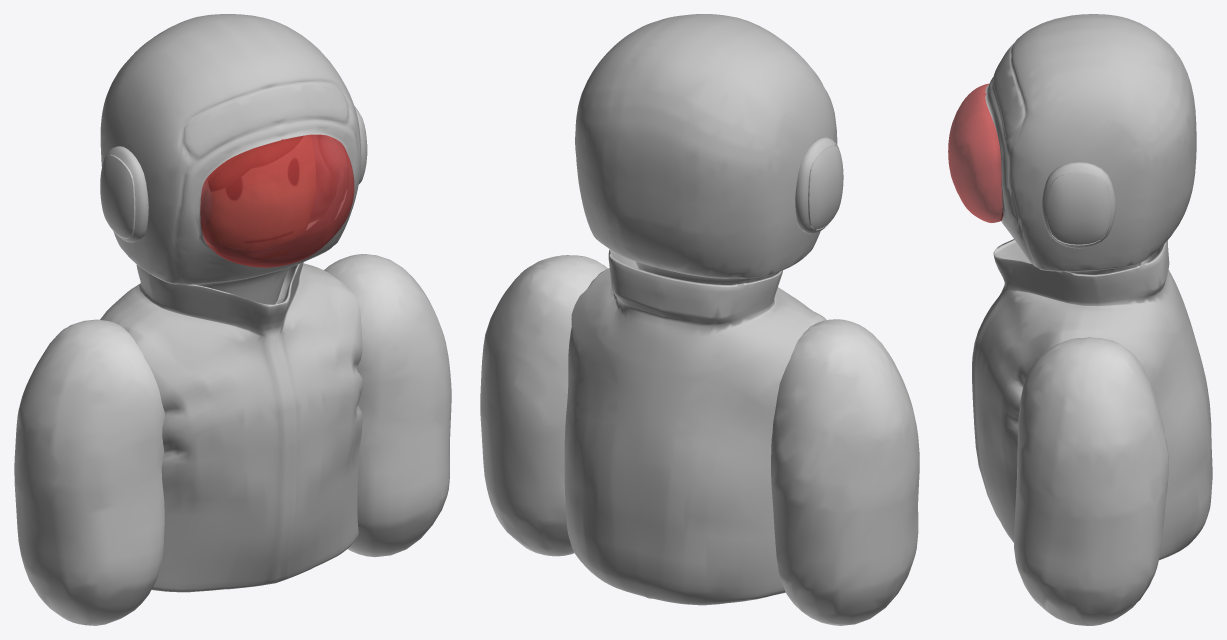
Rendered from UAF.glb.
3 renders of one model, left to right at view 1: azimuth 30°, elevation 25°; view 2: azimuth 150°, elevation 25°; view 3: azimuth 270°, elevation 25°, orthographic. The views are drawn at different scales.
Parts seen in each view (by area): view 1: Astro_body_low, Astro_Helmet_low, Astro_L_arm_low, Astro_R_arm_low, polySurface2, Astro_Face_low, Astro_L_Ear_low, Astro_Padding_low, polySurface1, Astro_Hair_low; view 2: Astro_body_low, Astro_Helmet_low, Astro_L_arm_low, Astro_R_arm_low, Astro_L_Ear_low; view 3: Astro_Helmet_low, Astro_R_arm_low, Astro_body_low, polySurface2, Astro_R_Ear_low.
Boxes of the visible parts, x1=… form: Astro_body_low: x1=100, y1=262, x2=362, y2=592; Astro_Helmet_low: x1=100, y1=14, x2=361, y2=304; Astro_L_arm_low: x1=14, y1=319, x2=164, y2=625; Astro_R_arm_low: x1=324, y1=254, x2=451, y2=557; polySurface2: x1=200, y1=134, x2=354, y2=267; Astro_Face_low: x1=206, y1=135, x2=315, y2=259; Astro_L_Ear_low: x1=100, y1=146, x2=148, y2=242; Astro_Padding_low: x1=201, y1=135, x2=347, y2=231; polySurface1: x1=202, y1=137, x2=347, y2=259; Astro_Hair_low: x1=208, y1=136, x2=302, y2=191; Astro_body_low: x1=564, y1=249, x2=826, y2=605; Astro_Helmet_low: x1=575, y1=14, x2=837, y2=284; Astro_L_arm_low: x1=771, y1=319, x2=919, y2=625; Astro_R_arm_low: x1=480, y1=255, x2=607, y2=556; Astro_L_Ear_low: x1=795, y1=137, x2=843, y2=234; Astro_Helmet_low: x1=985, y1=14, x2=1196, y2=274; Astro_R_arm_low: x1=1014, y1=337, x2=1168, y2=625; Astro_body_low: x1=972, y1=239, x2=1212, y2=560; polySurface2: x1=948, y1=83, x2=1003, y2=222; Astro_R_Ear_low: x1=1042, y1=162, x2=1115, y2=248.
Size of the model in its own units: 5.31 by 6.8 by 3.1.
Materials: 3 (2 with a texture image).
